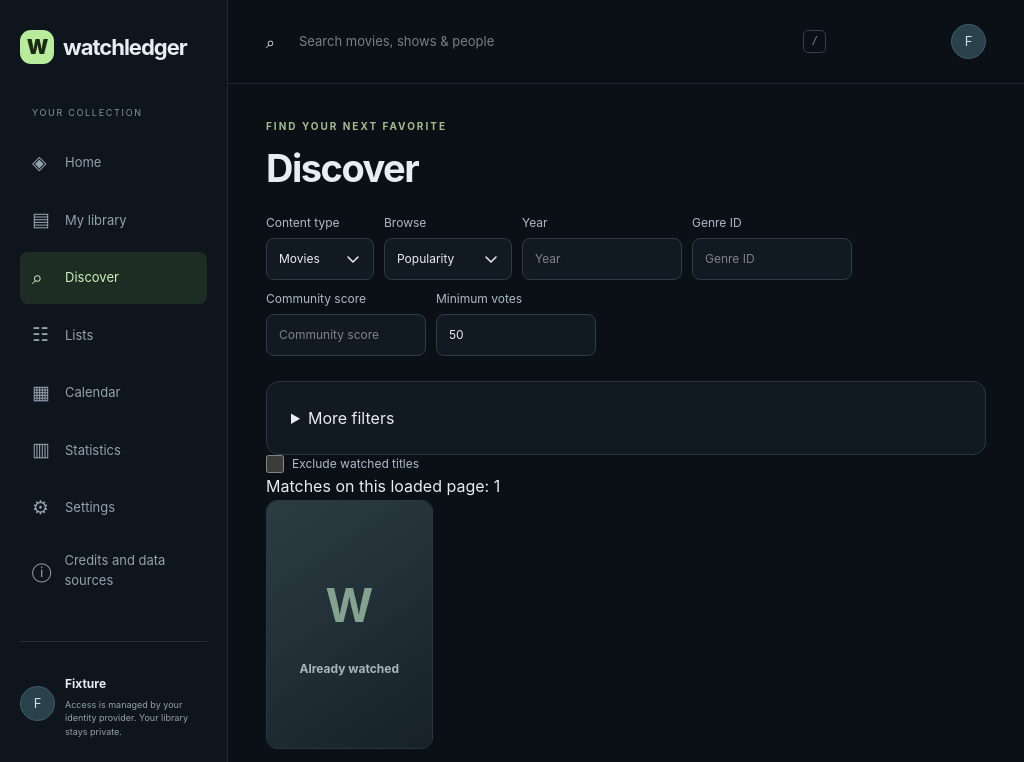
it: watched exclusion cannot silently treat an unavailable library as unknown unwatched titles
Click the checkbox labelled "Exclude watched titles".
click(275, 464)  # box [266,455,284,473]
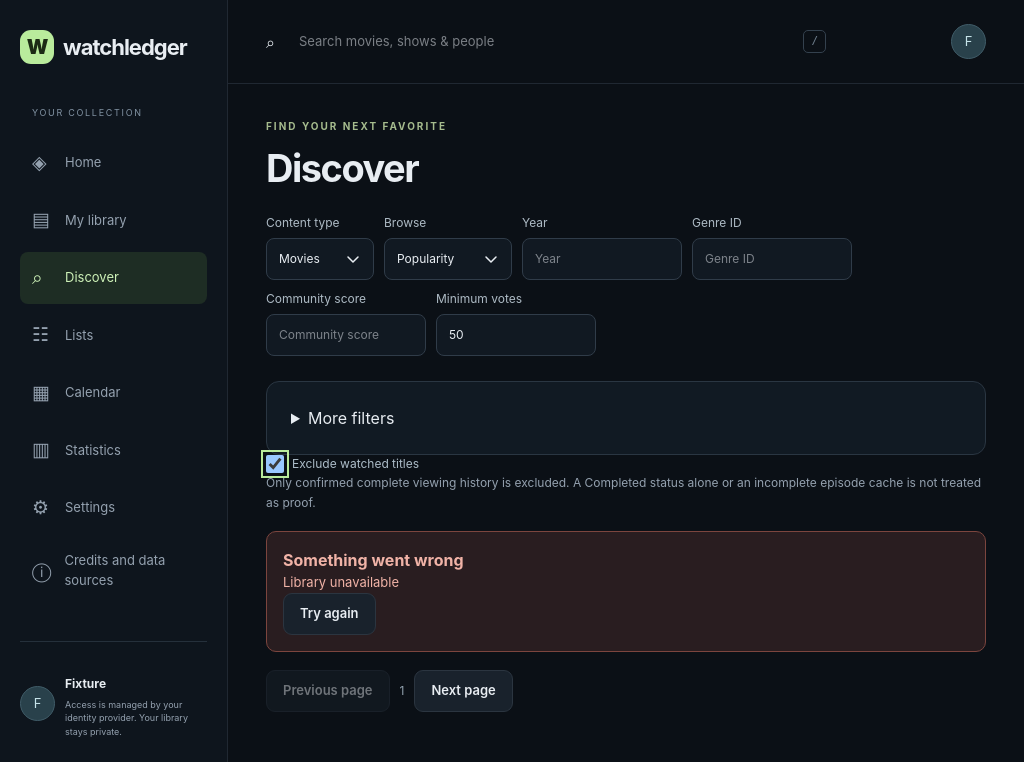
Expected: the message "Something went wrong Library unavailable Try again" is shown, [266,531,986,652]
Expected: the link "Already watched" is gone
